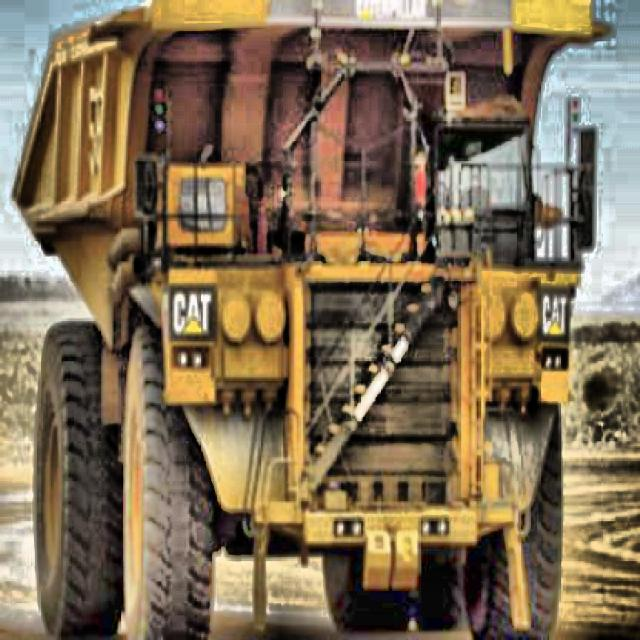dump_truck: (12, 3, 574, 636)
